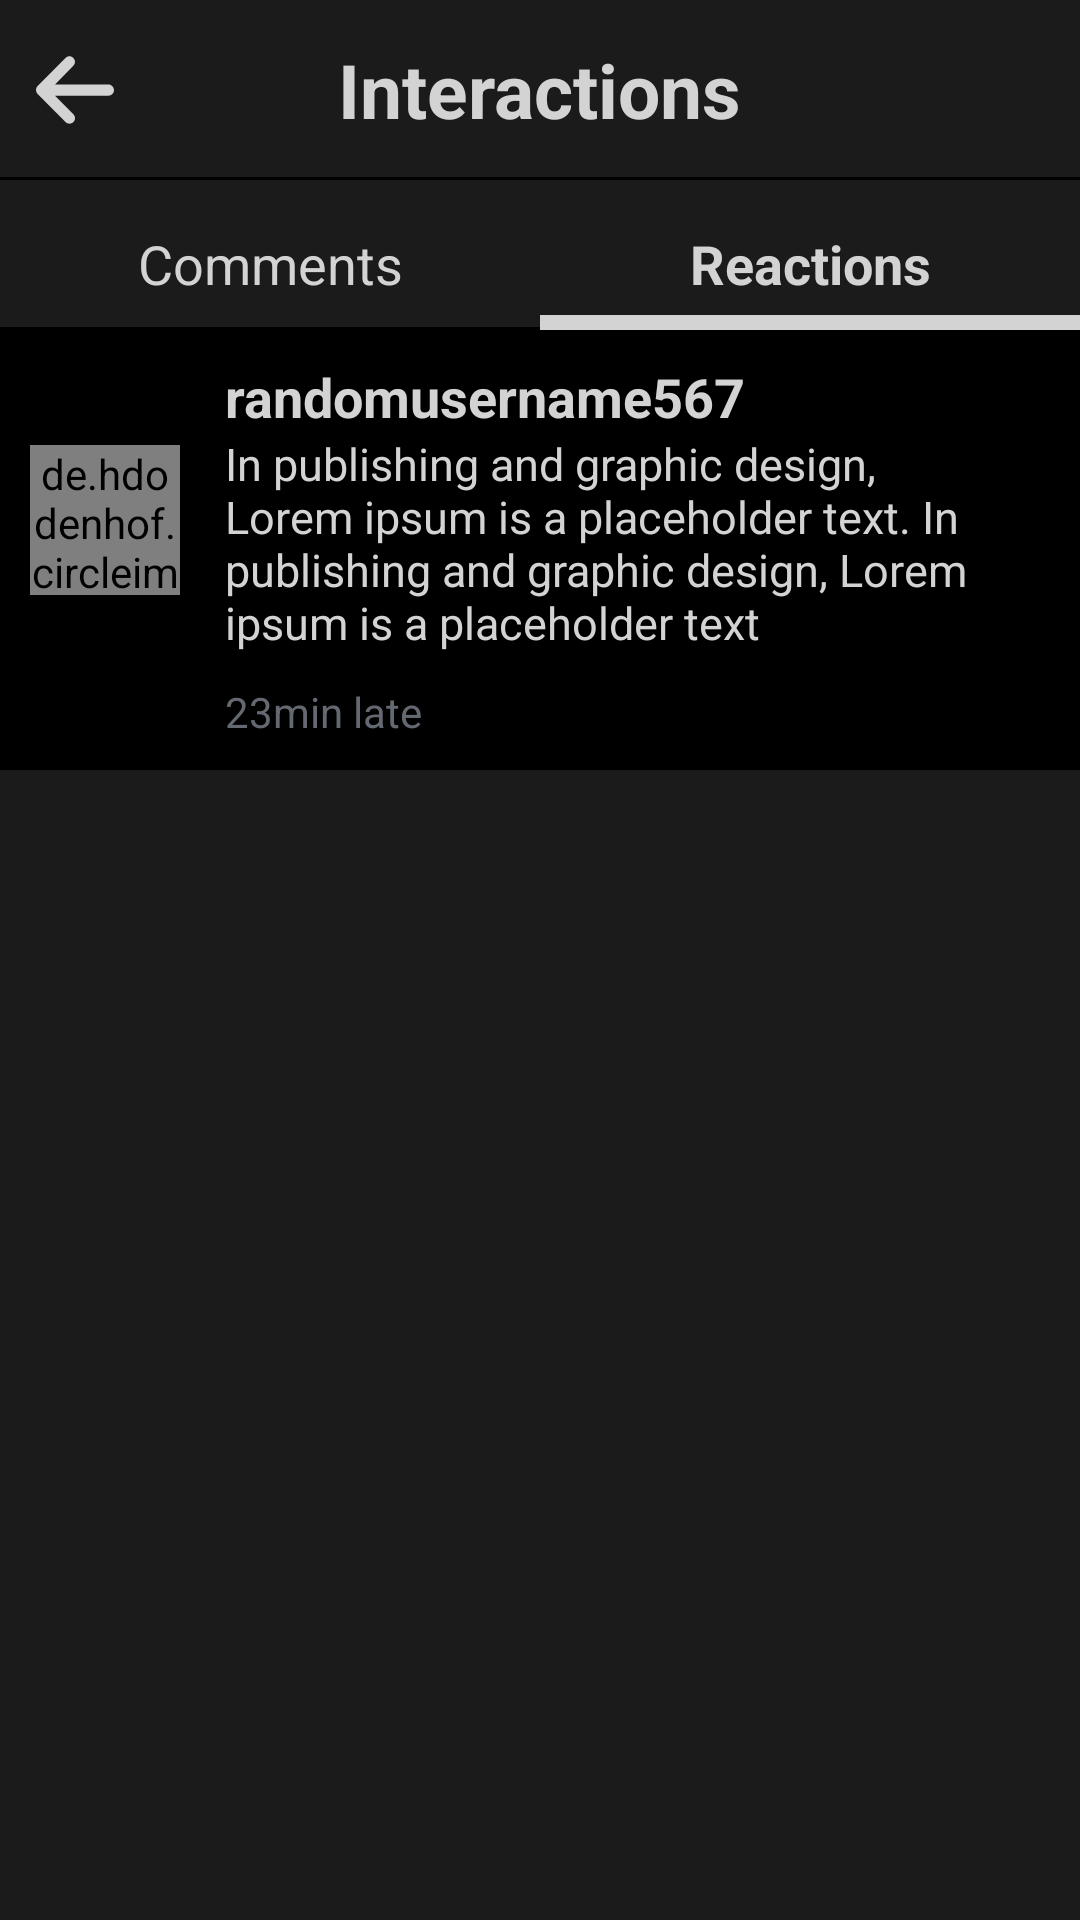

Locate icon controls on the screen. Image size 1080px×1920px, boxes as (x1, y1, x2, y2).
arrow left: (36, 56, 114, 124)
